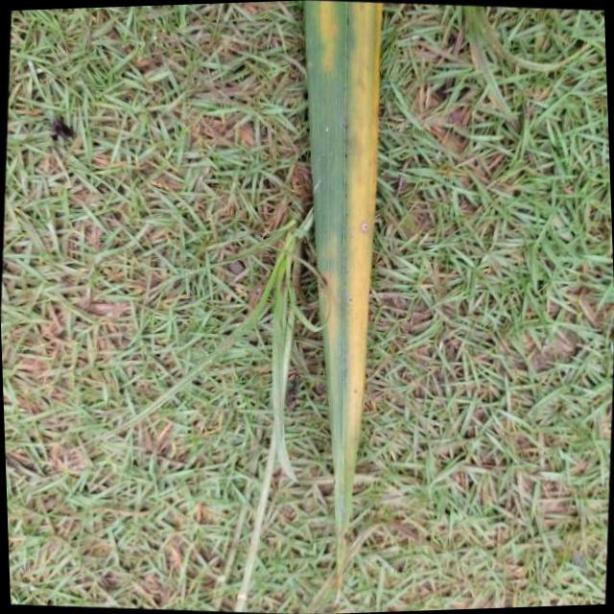Megnesium: (307, 0, 384, 614)
